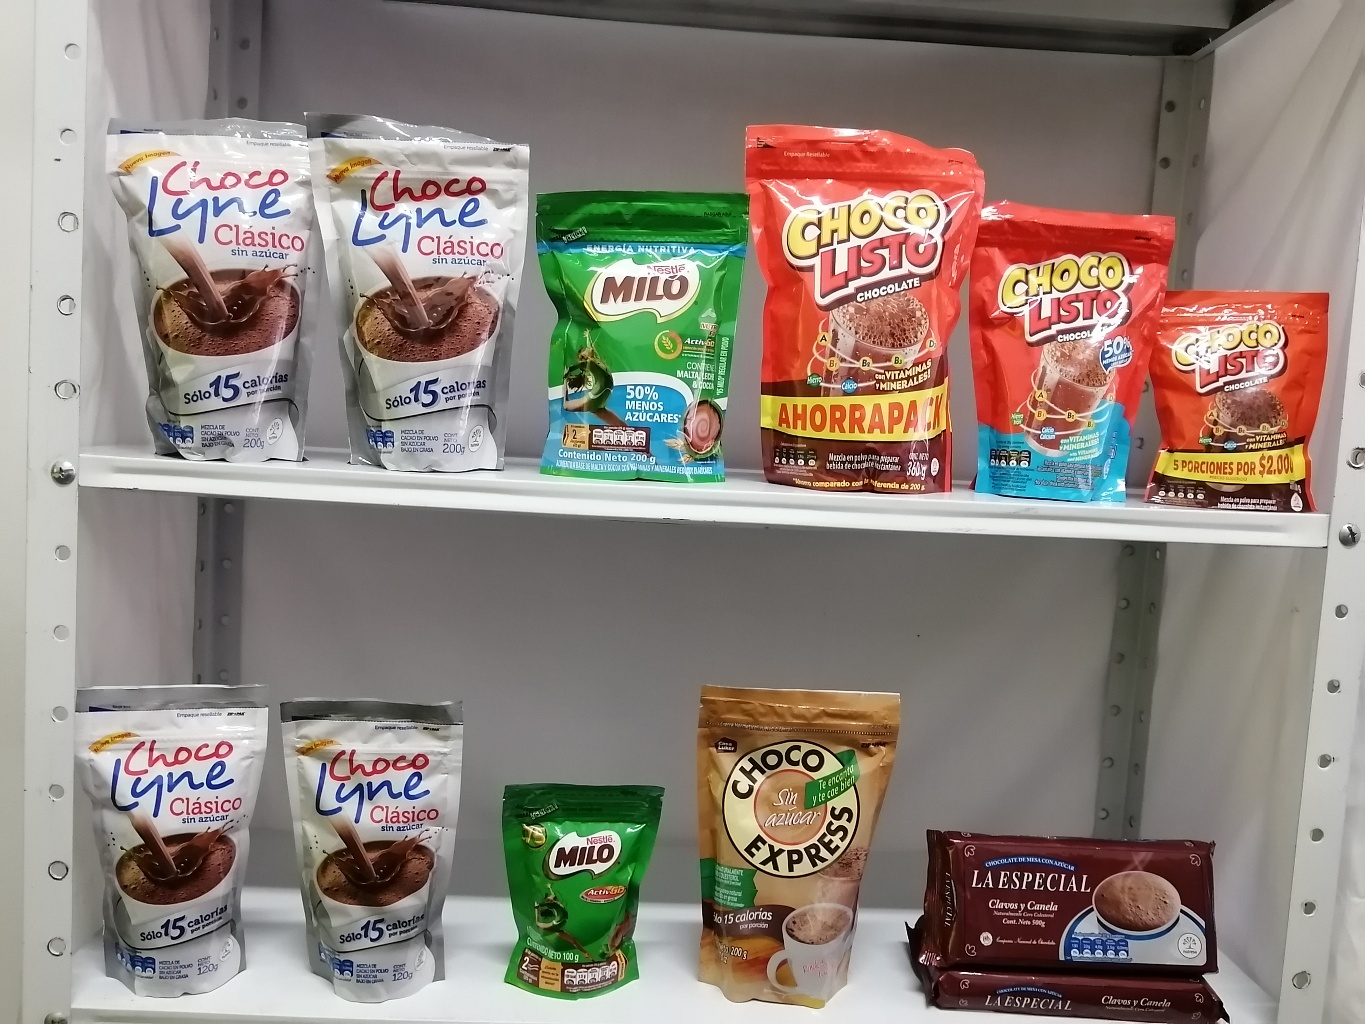COL0170103DYP36000: (747, 119, 989, 504)
COL0170104DYP20000: (973, 195, 1183, 503)
COL0170203DYP10000: (496, 773, 667, 1013)
COL0170205DYP20000: (536, 177, 748, 479)
